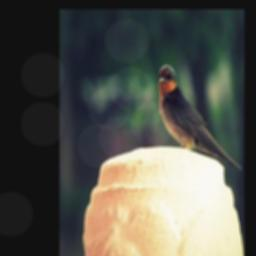Swallow: (156, 61, 242, 171)
